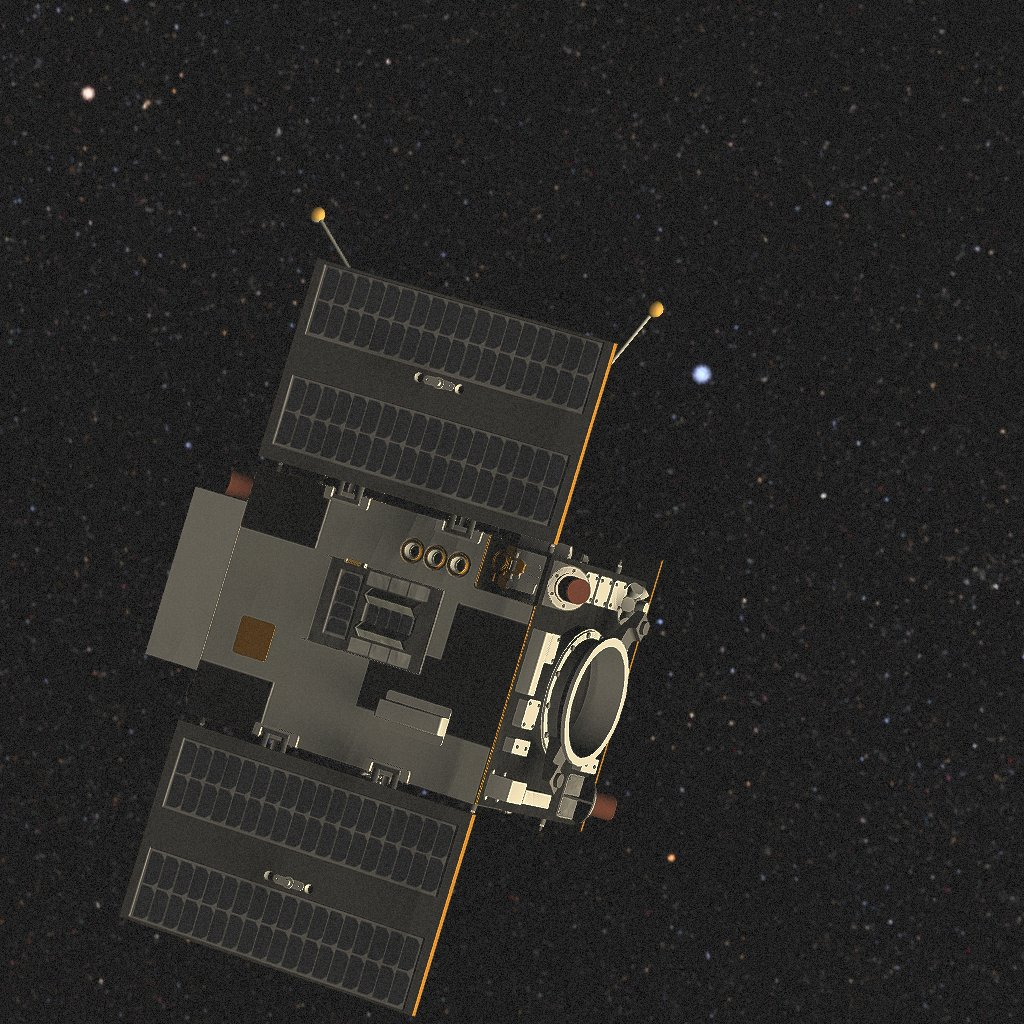proba_2: (120, 206, 663, 1016)
